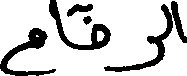ا: (49, 0, 67, 48), (170, 0, 185, 43)
خ: (79, 15, 110, 54)
ر: (125, 33, 163, 71)
ل: (161, 0, 171, 39)
م: (0, 26, 47, 75)
